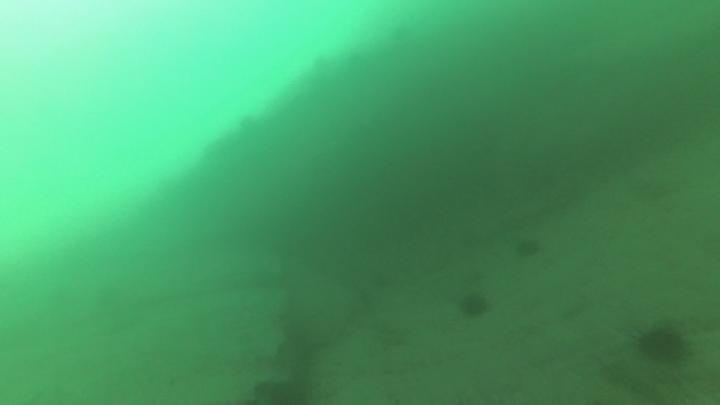echinus: (634, 321, 690, 367), (456, 289, 492, 321), (512, 234, 543, 261)
